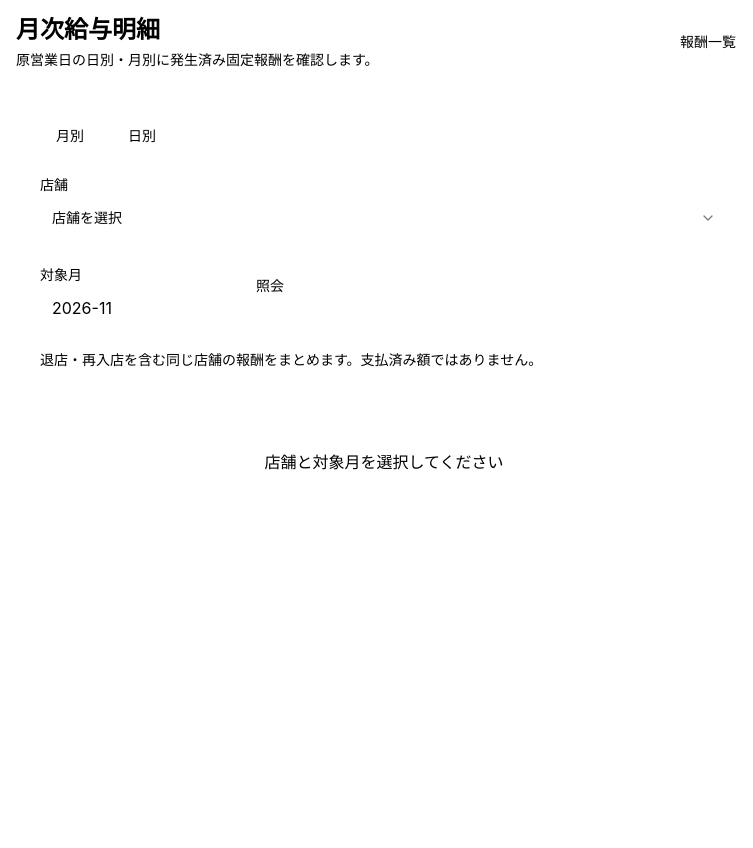
Test: 再照会失敗では古い金額を消し同じ条件で再試行する
This screenshot has width=753, height=848.
Click the dropdown labelled "店舗" at [87, 218], box [40,200,728,236]
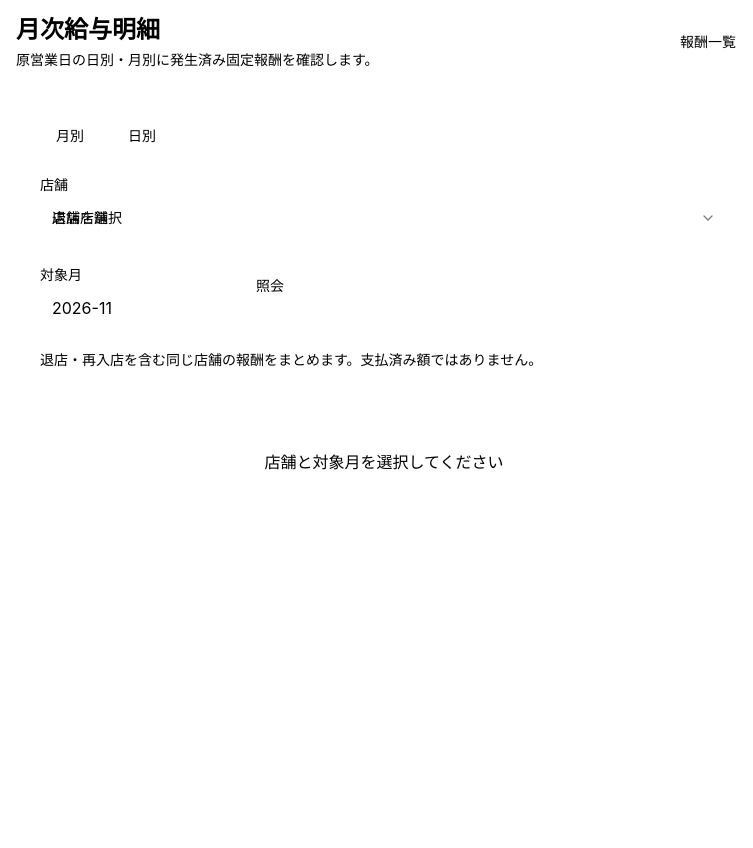
Click the option "退店店舗" at [80, 218], box [52,209,108,226]
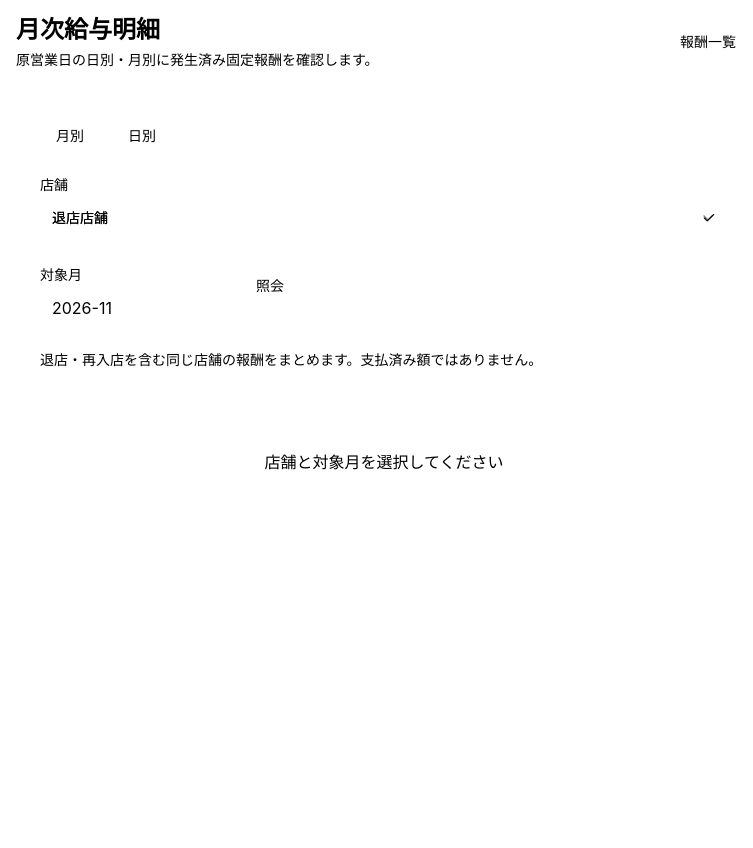
Replace the text in the field labelled "対象月" with "2026-09" at [128, 308], box [40,290,216,326]
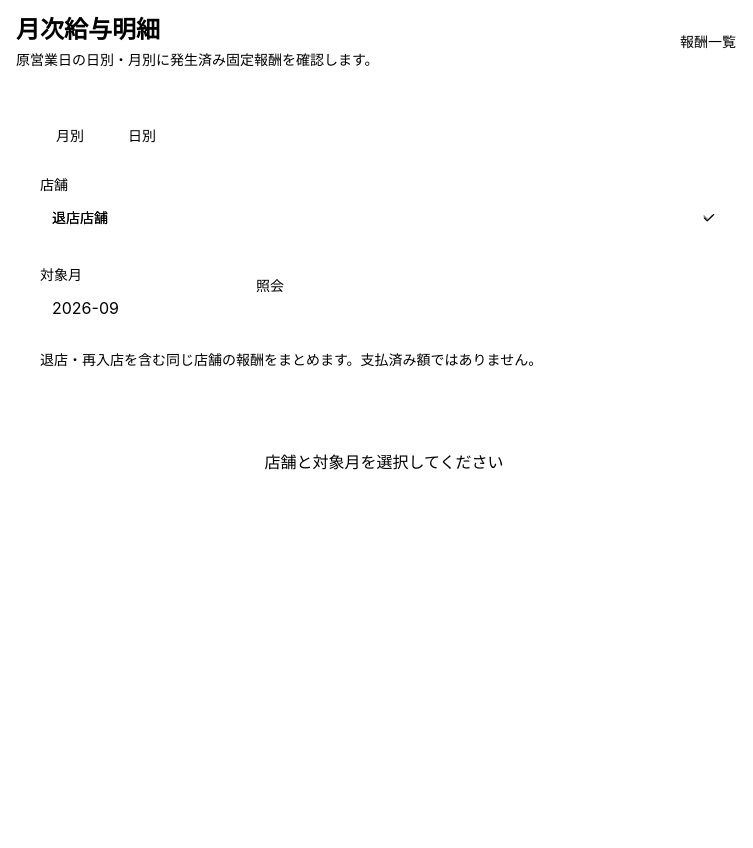
Click the button "照会" at [270, 286], box [240,268,300,304]
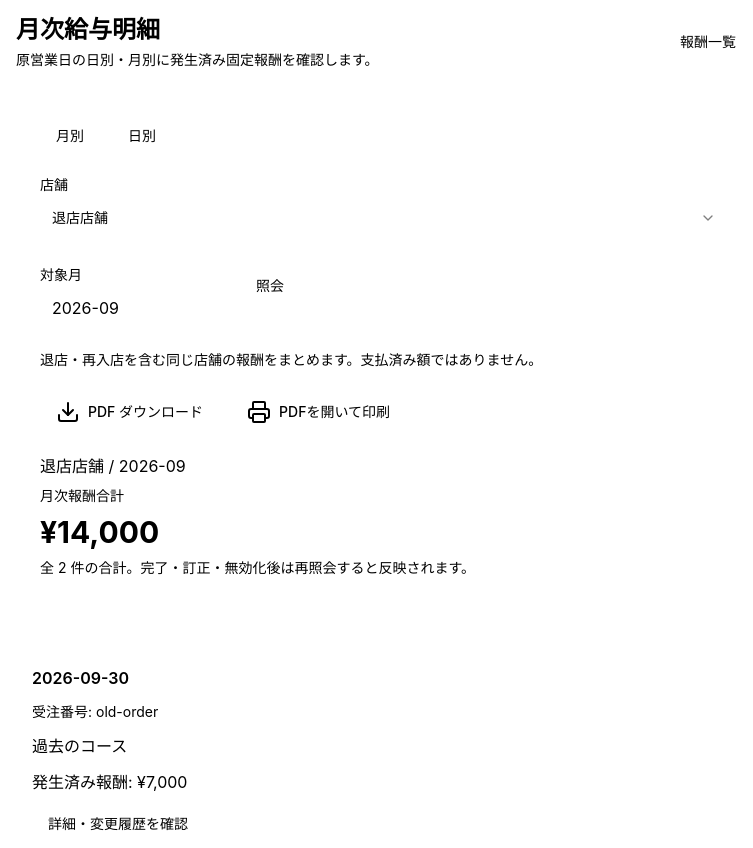
Expected: the text named "月次報酬合計" is shown, [40,514,159,550]
Click the button "照会" at [270, 286], box [240,268,300,304]
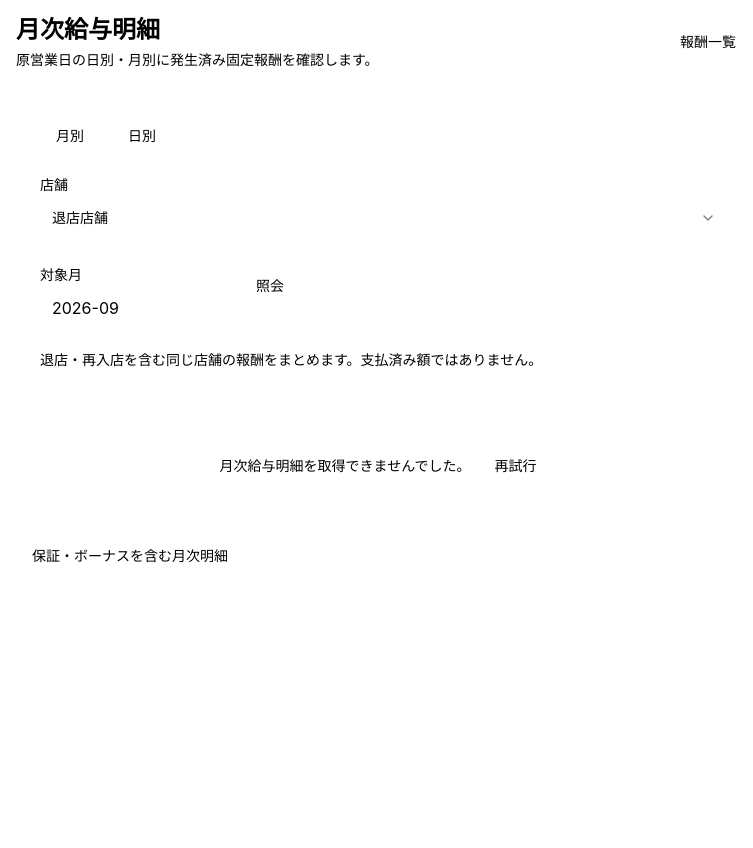
Expected: the text "月次給与明細を取得できませんでした。" is shown, [220,456,470,476]
Expected: the text labelled "月次報酬合計" is gone
Expected: the text "過去のコース" is gone
Click the button "再試行" at [515, 466], box [482,450,548,482]
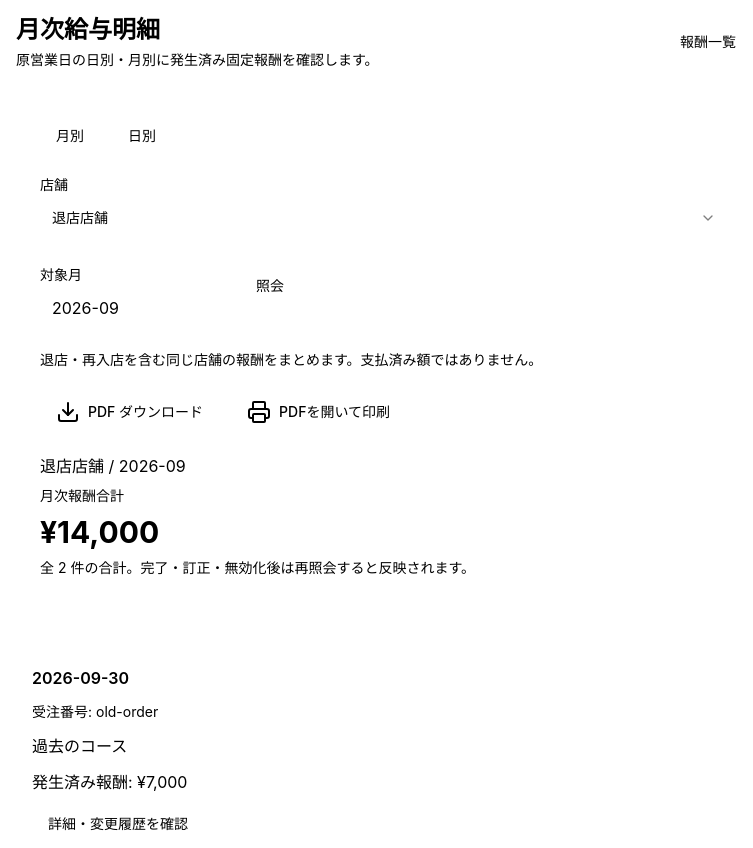
Expected: the text named "月次報酬合計" is shown, [40,514,159,550]
